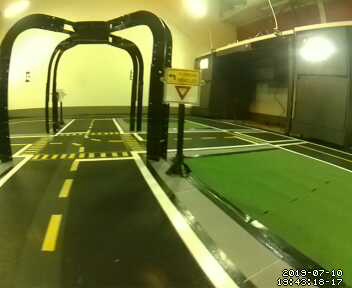Turn Yield: (162, 67, 200, 105)
